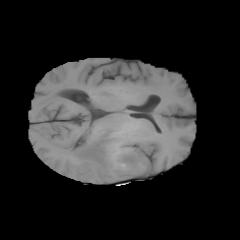glioma: (70, 129, 150, 173)
